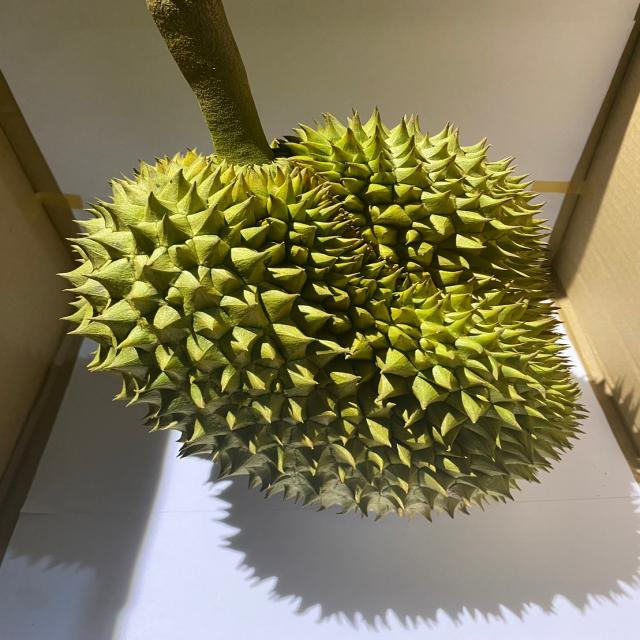immature: (59, 109, 594, 524)
